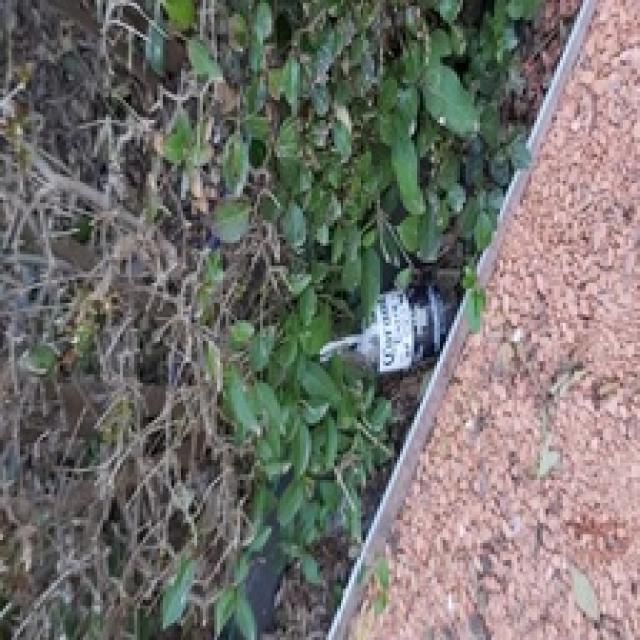Glass: (314, 284, 462, 376)
